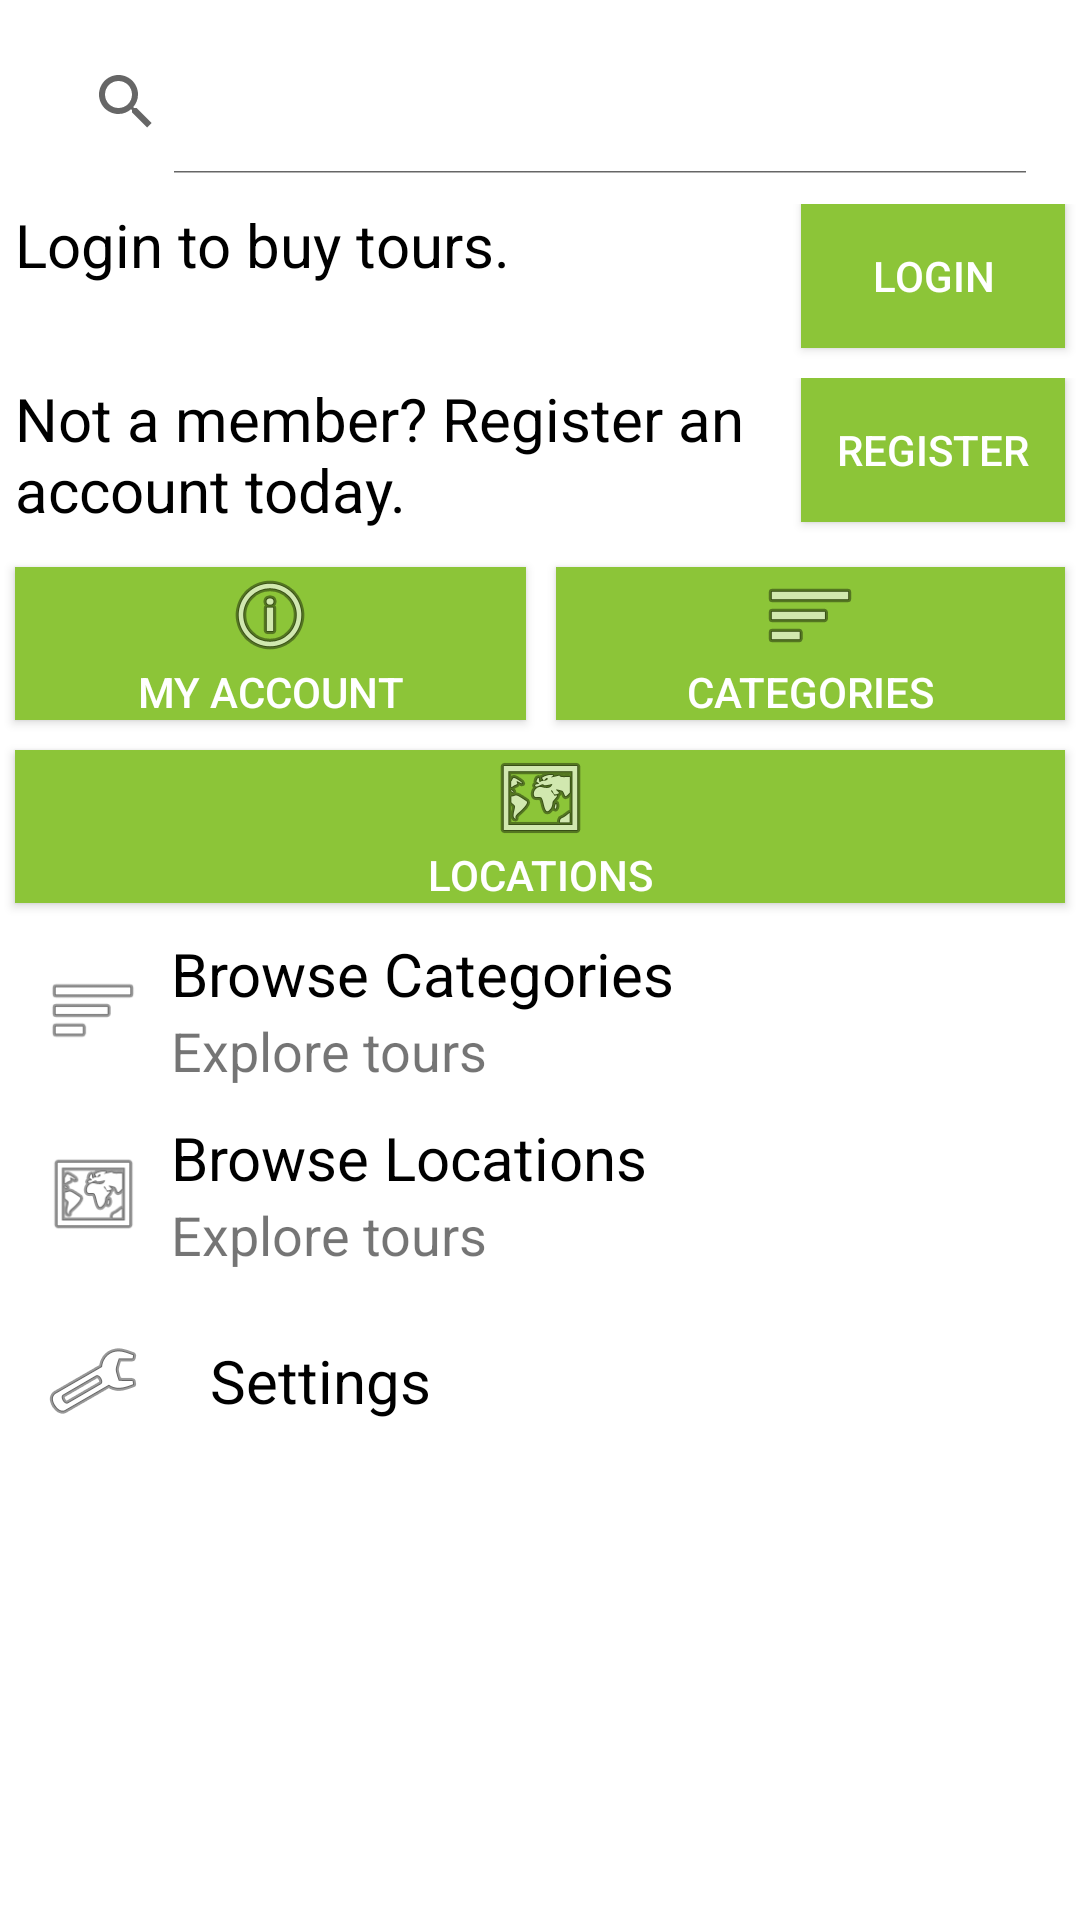

Locate icon controls on the screen. Image size 1080 x 1920, boxes as bbox(x1, y1, x2, y2).
manage: bbox(50, 1348, 136, 1414)
